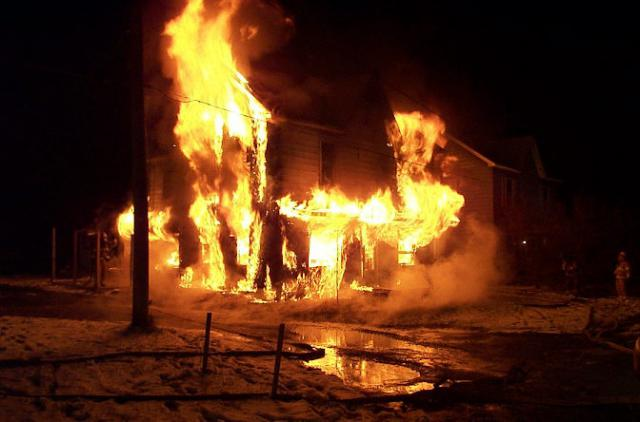fire: (94, 1, 466, 303)
